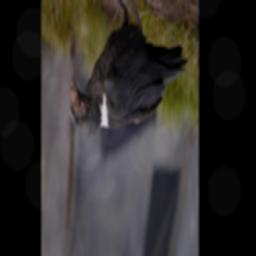Crow: (68, 0, 189, 143)
